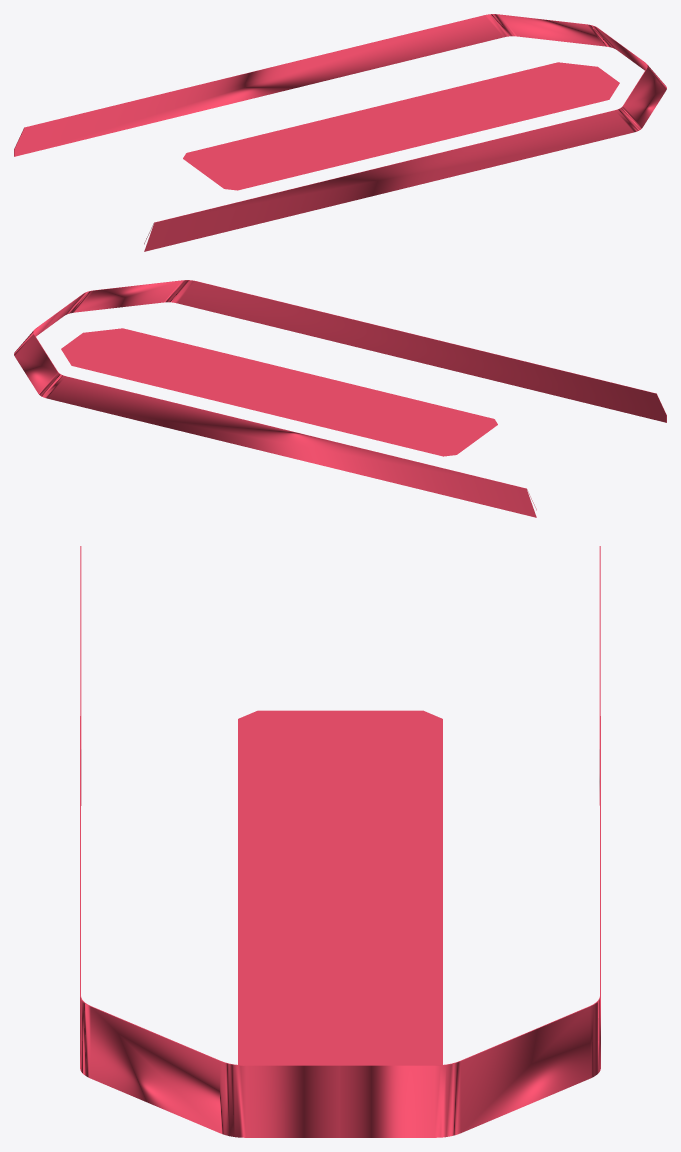
Rendered from Base_16x16x04_straight_004_a_glass.glb.
The picture shows the model from 3 angles, top to bottom: view 1: azimuth 30°, elevation 25°; view 2: azimuth 150°, elevation 25°; view 3: azimuth 270°, elevation 25°; orthographic projection. The views are drawn at different scales.
Size of the model in its own units: 25.28 by 1.2 by 10.15.
